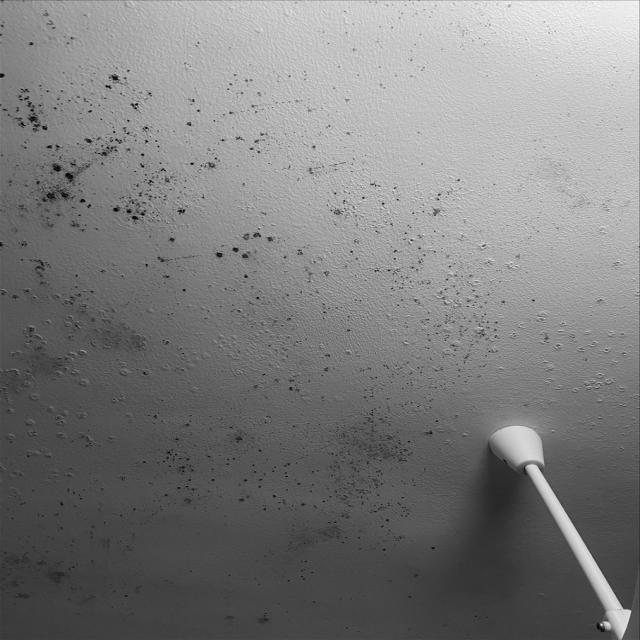stain marks: (0, 0, 501, 640), (503, 136, 640, 429)
